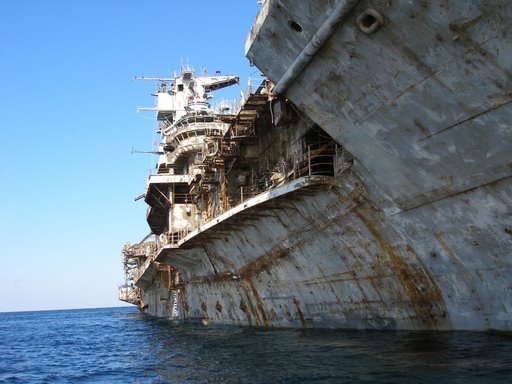rust: (355, 214, 447, 316), (230, 248, 287, 319), (177, 300, 224, 313)
